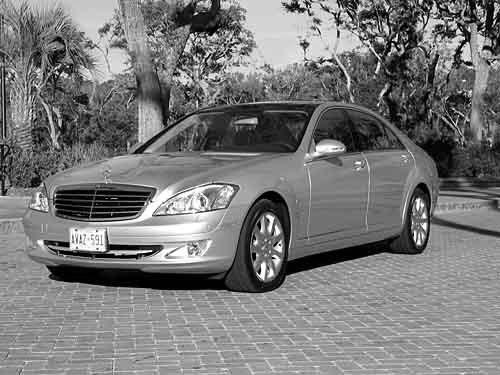car: (21, 99, 442, 295)
